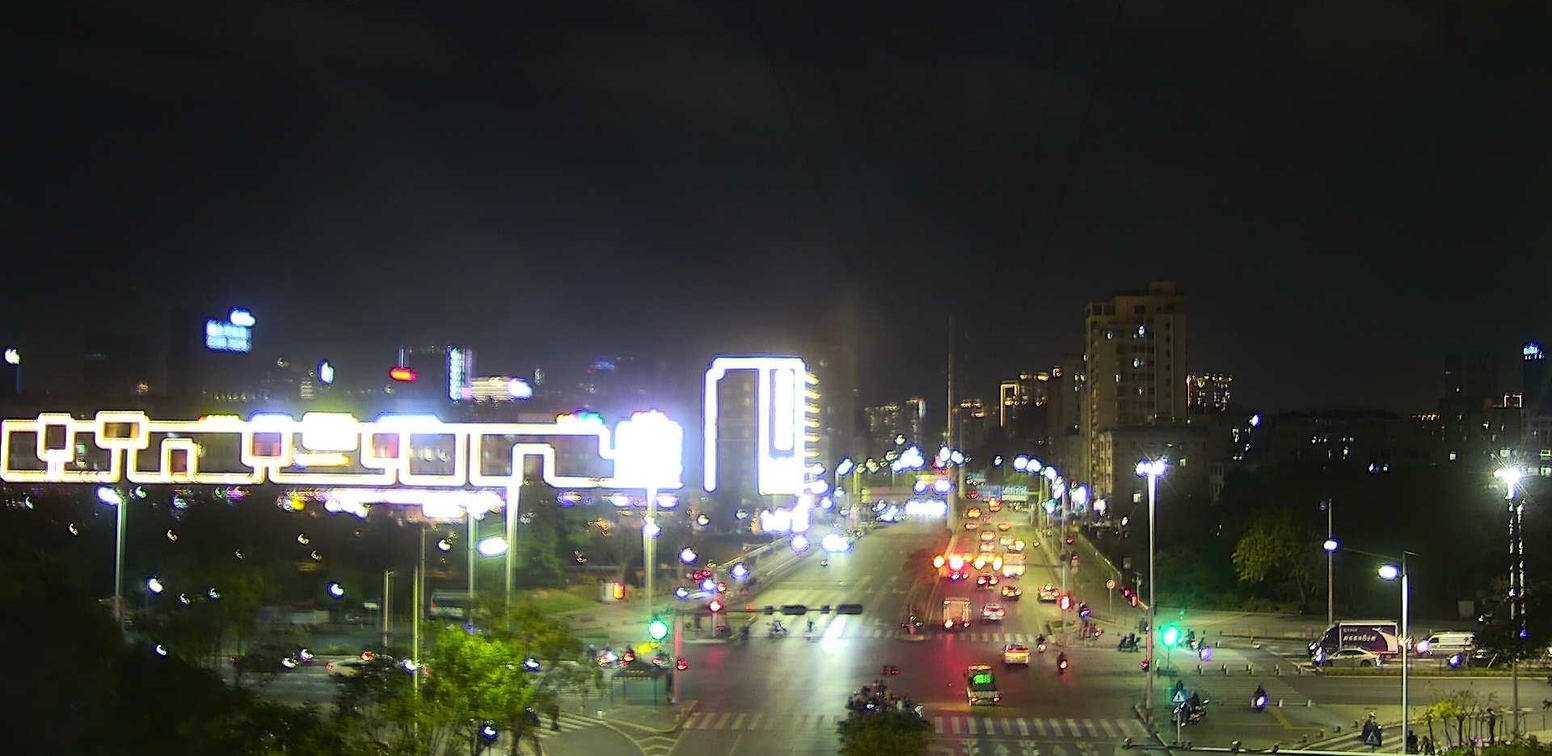过爆灯光: (702, 357, 802, 496), (325, 485, 503, 522), (612, 407, 684, 489), (301, 413, 359, 450), (759, 505, 809, 534), (377, 412, 442, 433), (555, 411, 603, 432), (823, 612, 849, 646), (892, 446, 923, 472), (247, 414, 294, 431), (905, 500, 945, 518), (820, 532, 847, 552), (479, 537, 506, 553)
